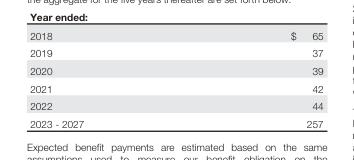table: (29, 28, 322, 129)
table column: (29, 28, 186, 129), (186, 28, 322, 129)
table row: (29, 43, 322, 61), (29, 61, 322, 79), (29, 96, 322, 114), (29, 79, 322, 96), (29, 28, 322, 43), (29, 114, 322, 129)
